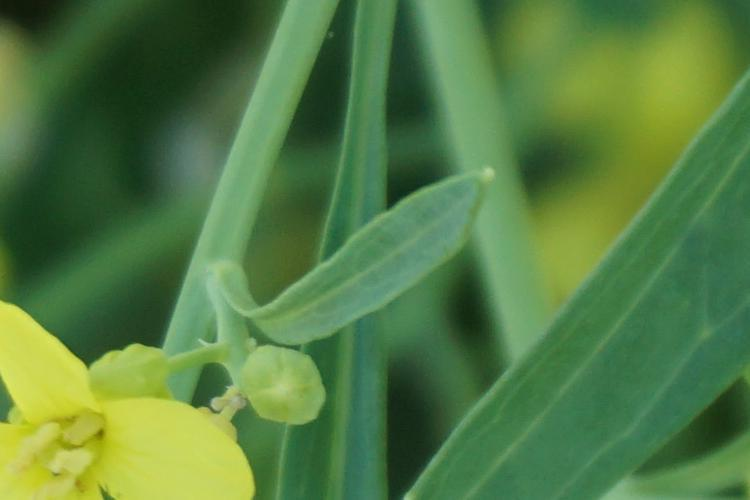bud: (226, 343, 335, 427)
